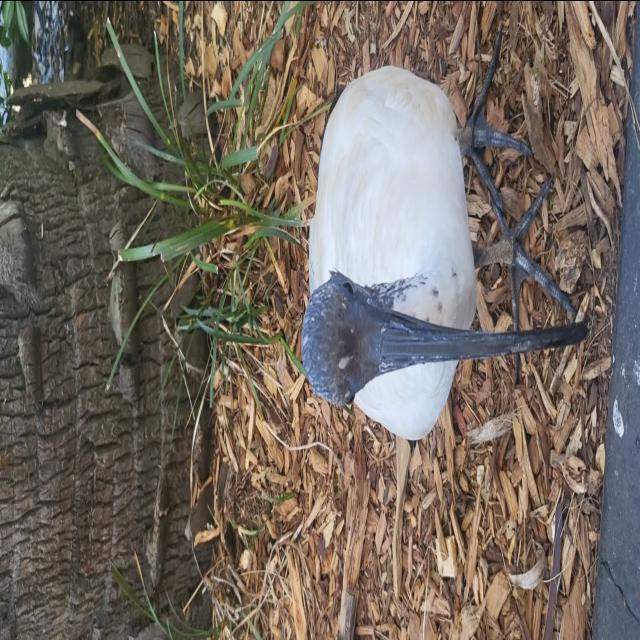Birds-Ibis: (296, 18, 594, 446)
